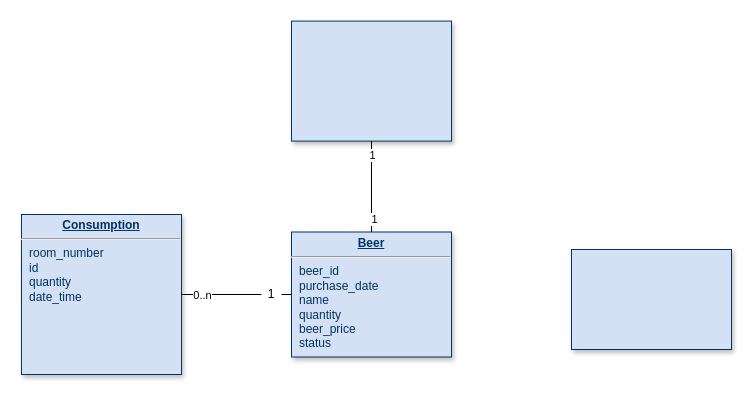
Image size: 755x400. Some labels were removed from this diagram. The shapes that lost their labels are listed below. From the top down, each one's centre as x and y in pixels, then its label:
At point (372, 82): "Statiegeld beer_id bottle_value crate_value extra".
At point (652, 300): "Balance Iast_update amount".
